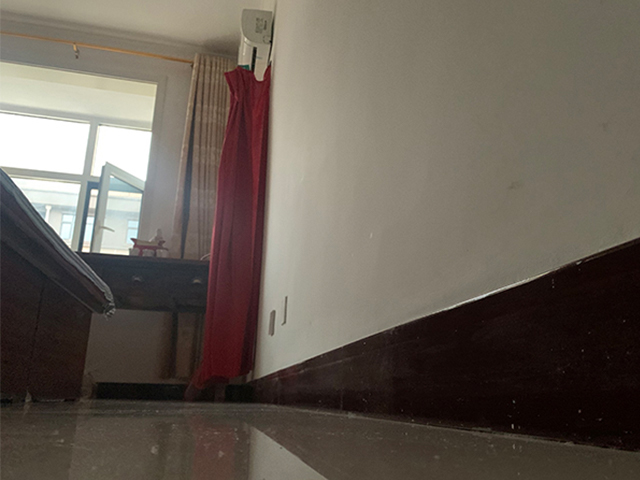bed: (1, 167, 115, 404)
curtain: (154, 53, 239, 381)
